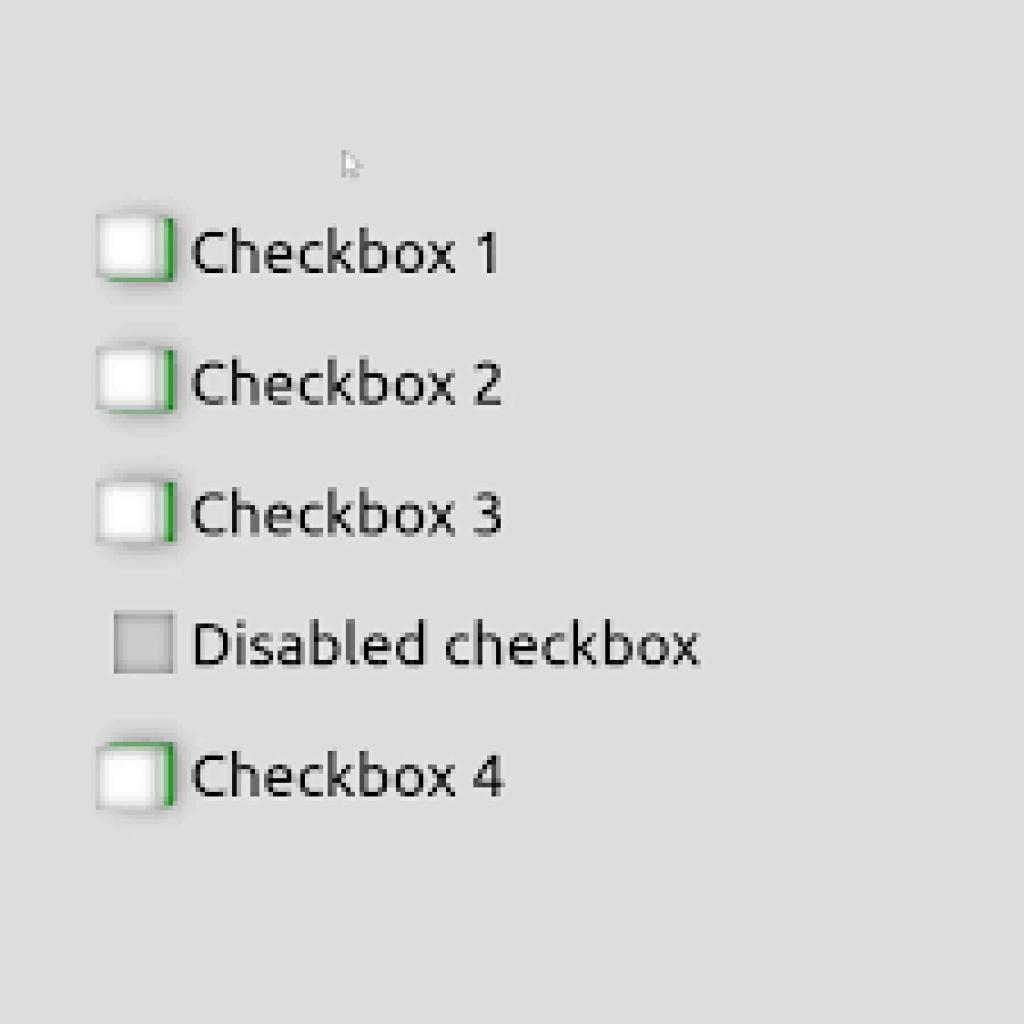checkbox: (94, 734, 183, 822), (91, 341, 184, 425), (92, 210, 182, 293), (93, 475, 185, 556), (107, 608, 188, 683)
